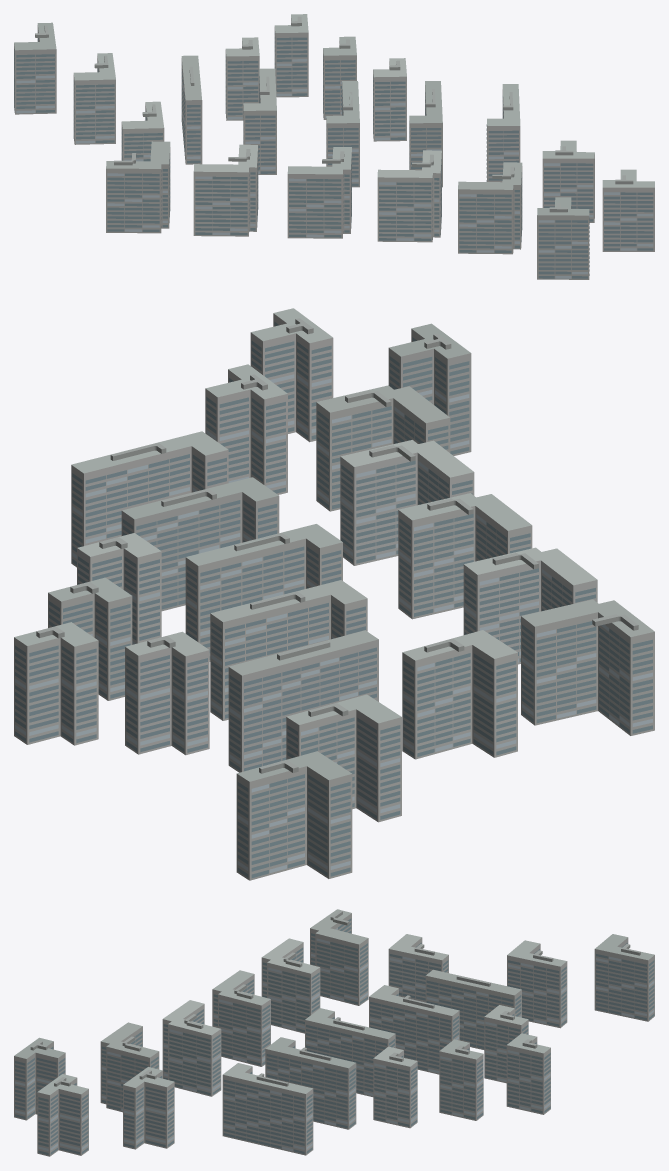
File: apt-a13520003.glb
3 views of the same model, one above another, from view 1: azimuth 30°, elevation 25°; view 2: azimuth 150°, elevation 25°; view 3: azimuth 270°, elevation 25° (orthographic). The views are drawn at different scales.
Visible parts, largest first — view 1: apt-a13520003; view 2: apt-a13520003; view 3: apt-a13520003.
Part boxes in pixels (bbox=[...]): apt-a13520003: bbox=[14, 14, 654, 279]; apt-a13520003: bbox=[14, 308, 654, 880]; apt-a13520003: bbox=[14, 909, 654, 1156].
Bounding box in the file's own units: 272 × 44 × 397.
